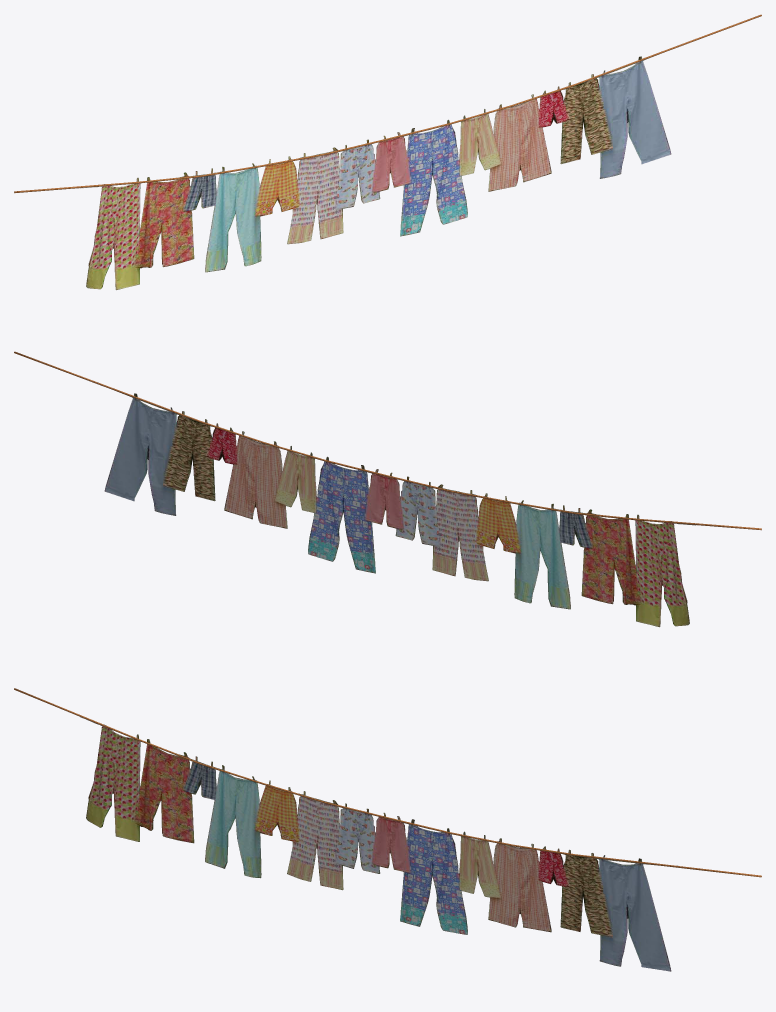
The model's file is clothesline0.fbx.
3 views of the same model, one above another, from view 1: azimuth 30°, elevation 25°; view 2: azimuth 150°, elevation 25°; view 3: azimuth 330°, elevation 25° (orthographic).
Visible parts, largest first — view 1: Plane0, Cylinder0, Duplicate0; view 2: Duplicate0, Cylinder0, Plane0; view 3: Plane0, Cylinder0, Duplicate0.
Part boxes in pixels (x1=…): Plane0: x1=80, y1=45, x2=678, y2=290; Cylinder0: x1=14, y1=14, x2=761, y2=193; Duplicate0: x1=86, y1=56, x2=641, y2=286; Duplicate0: x1=97, y1=382, x2=695, y2=627; Cylinder0: x1=14, y1=351, x2=761, y2=530; Plane0: x1=134, y1=393, x2=689, y2=623; Plane0: x1=80, y1=717, x2=671, y2=971; Cylinder0: x1=14, y1=688, x2=761, y2=877; Duplicate0: x1=102, y1=730, x2=677, y2=970.
Size of the model in its own units: 27.33 by 5.12 by 0.0554.
